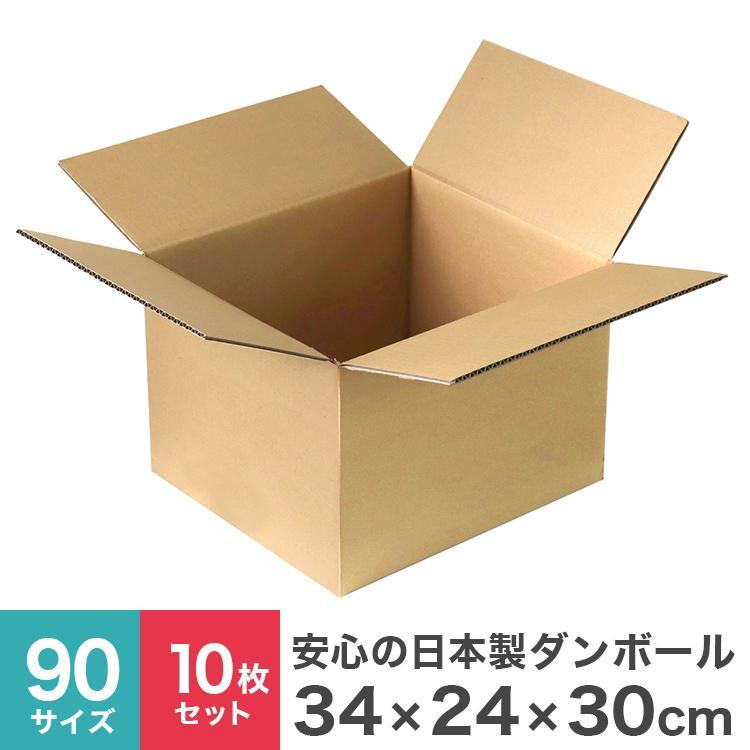box: (45, 29, 702, 592)
